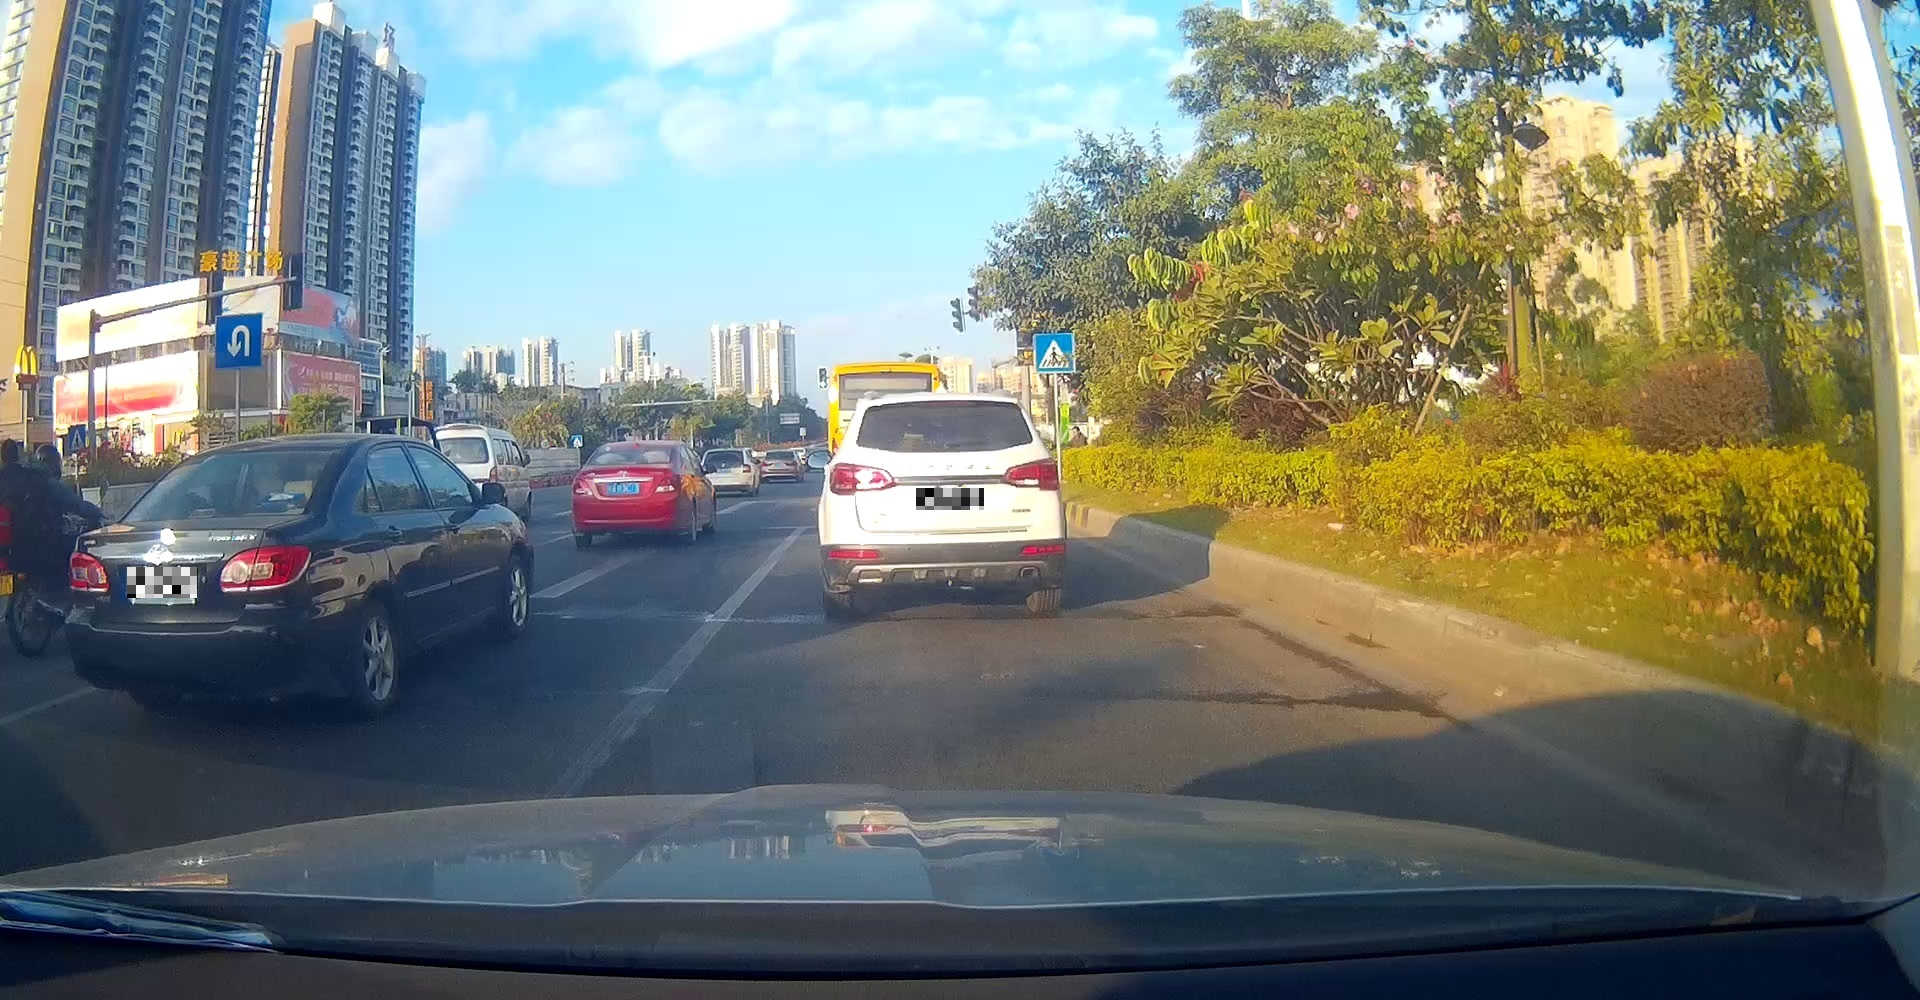L_light: (829, 462, 898, 496), (69, 551, 110, 591), (571, 477, 593, 495)
R_light: (218, 544, 312, 593), (1001, 457, 1060, 491), (653, 475, 686, 494)
T_light: (185, 509, 217, 519), (927, 401, 977, 406), (620, 462, 636, 464)
day-no: (63, 433, 350, 721), (818, 391, 1065, 621), (571, 440, 688, 548)
plate_1: (127, 567, 197, 598)
plate_2: (916, 489, 984, 510)
